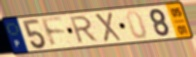0: (126, 9, 149, 40)
5: (20, 18, 47, 50)
8: (149, 8, 171, 38)
F: (39, 16, 68, 49)
R: (69, 14, 101, 46)
X: (93, 12, 124, 44)
